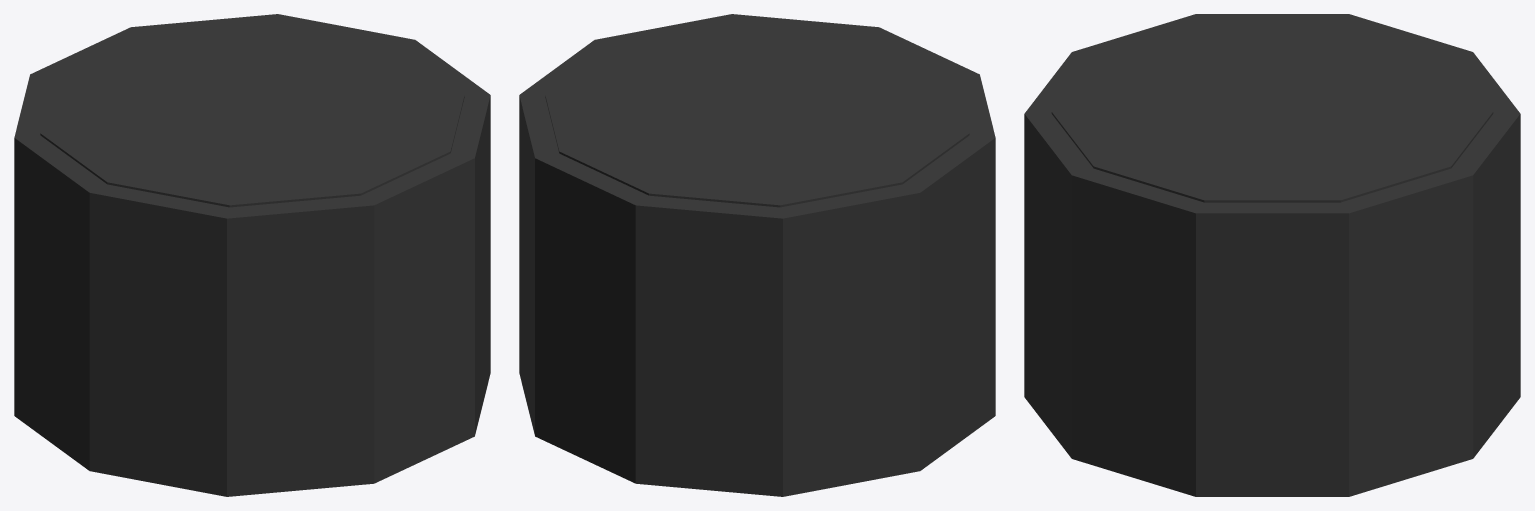
Rendered from Silo.fbx.
The picture shows the model from 3 angles, left to right: view 1: azimuth 30°, elevation 25°; view 2: azimuth 150°, elevation 25°; view 3: azimuth 270°, elevation 25°; orthographic projection.
Visible parts, largest first — view 1: Silo_Ring, Silo_Cover_Left, Silo_Cover_right; view 2: Silo_Ring, Silo_Cover_Left, Silo_Cover_right; view 3: Silo_Ring, Silo_Cover_right, Silo_Cover_Left.
Boxes of the visible parts, <box> form: Silo_Ring: <box>14,14,490,496</box>; Silo_Cover_Left: <box>40,35,360,207</box>; Silo_Cover_right: <box>144,23,464,195</box>; Silo_Ring: <box>519,14,995,496</box>; Silo_Cover_Left: <box>649,35,969,207</box>; Silo_Cover_right: <box>545,23,865,195</box>; Silo_Ring: <box>1024,14,1520,496</box>; Silo_Cover_right: <box>1051,111,1493,202</box>; Silo_Cover_Left: <box>1051,22,1493,111</box>.
Bounding box in the file's own units: 60.13 × 40.19 × 63.22.
